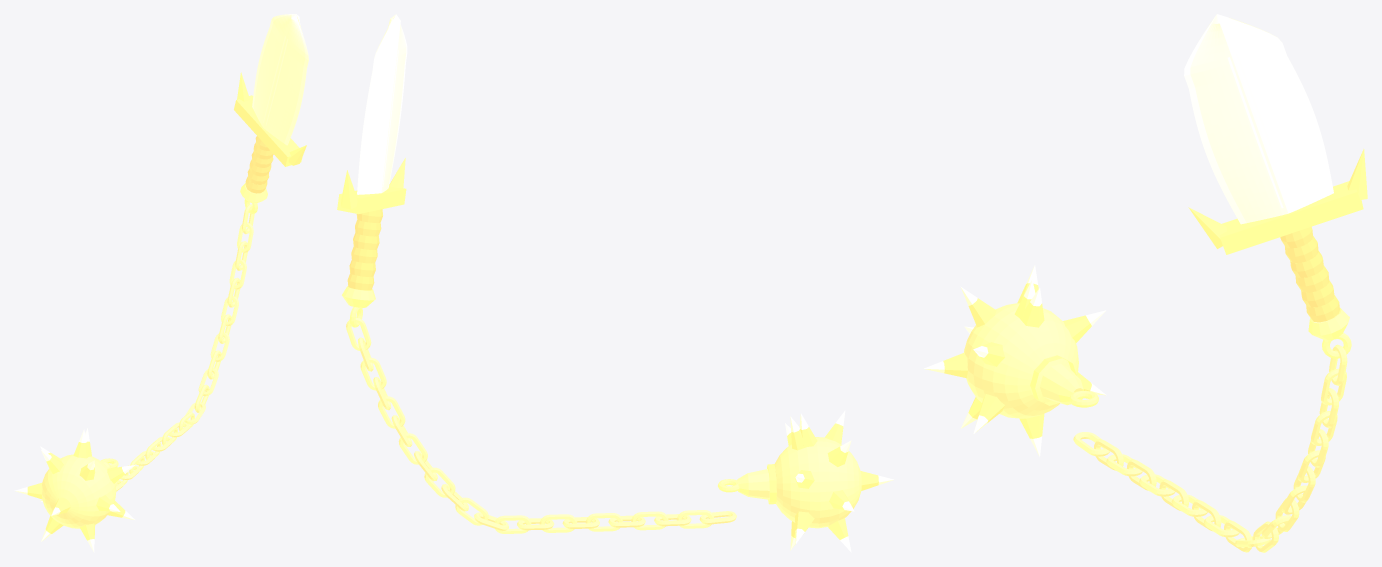
Rendered from shellbreaker.glb.
3 renders of one model, left to right at view 1: azimuth 30°, elevation 25°; view 2: azimuth 150°, elevation 25°; view 3: azimuth 270°, elevation 25°, orthographic. The views are drawn at different scales.
Visible parts, largest first — view 1: sword, mace; view 2: sword, mace; view 3: sword, mace.
Part boxes in pixels (x1,y1,x2,y2): sword: (234, 14, 308, 214); mace: (14, 428, 134, 552); sword: (337, 14, 407, 327); mace: (718, 410, 894, 552); sword: (1184, 14, 1367, 358); mace: (923, 265, 1106, 456).
Size of the model in its own units: 1.04 by 1.23 by 0.7671.
